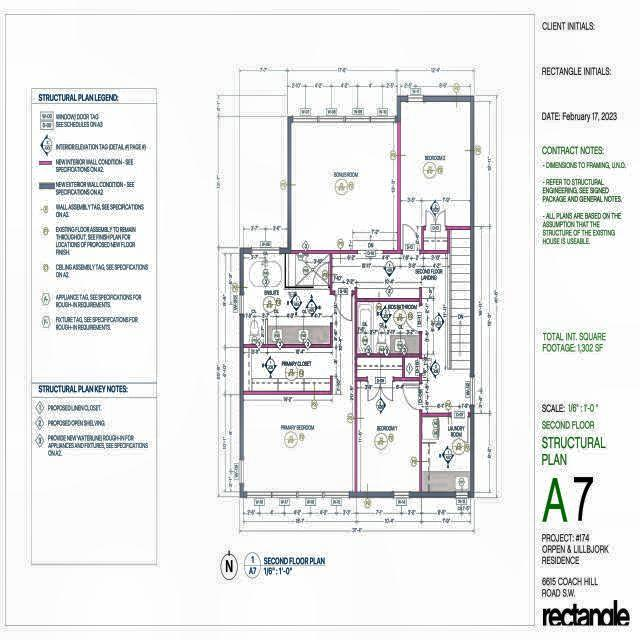room: (291, 122, 397, 250), (401, 102, 470, 250), (357, 381, 420, 492), (422, 417, 470, 492), (357, 302, 420, 354), (286, 254, 330, 287), (424, 230, 447, 250), (405, 357, 420, 377)
